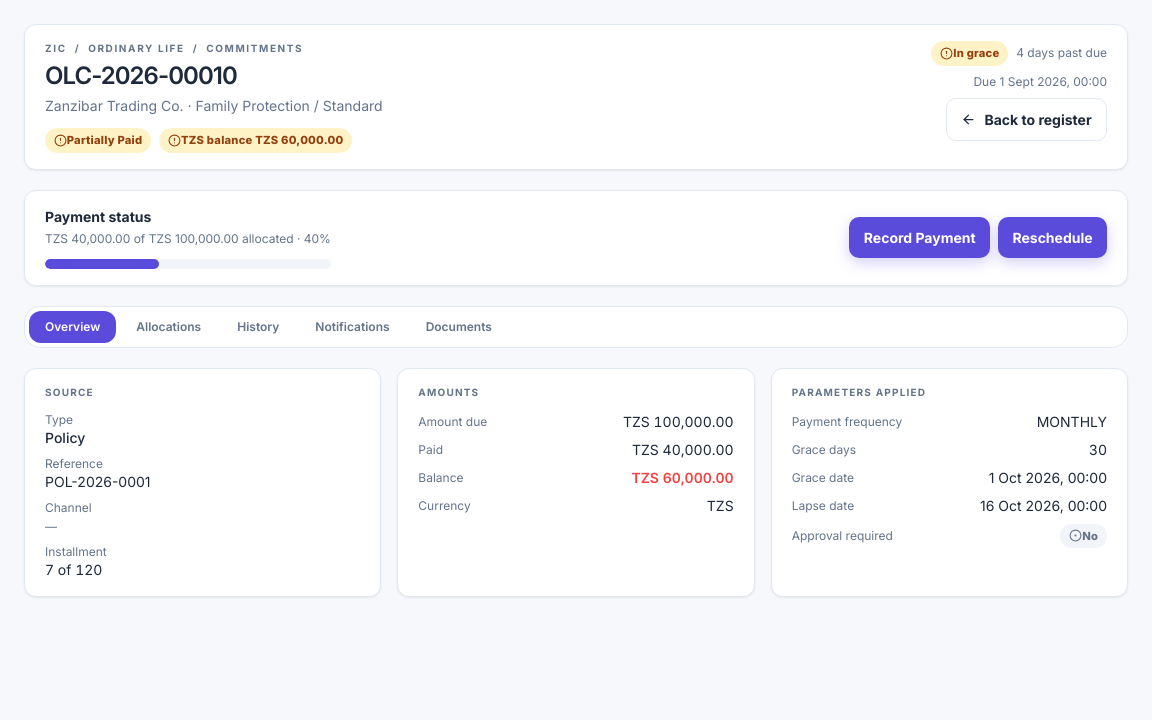
Test: CommitmentDetailPage › renders the allocations tab with receipts and reversal links
Expected: the heading "OLC-2026-00010" is shown, [45,61,237,90]
Click the button "Allocations".
click(169, 327)  # box [120,311,217,343]
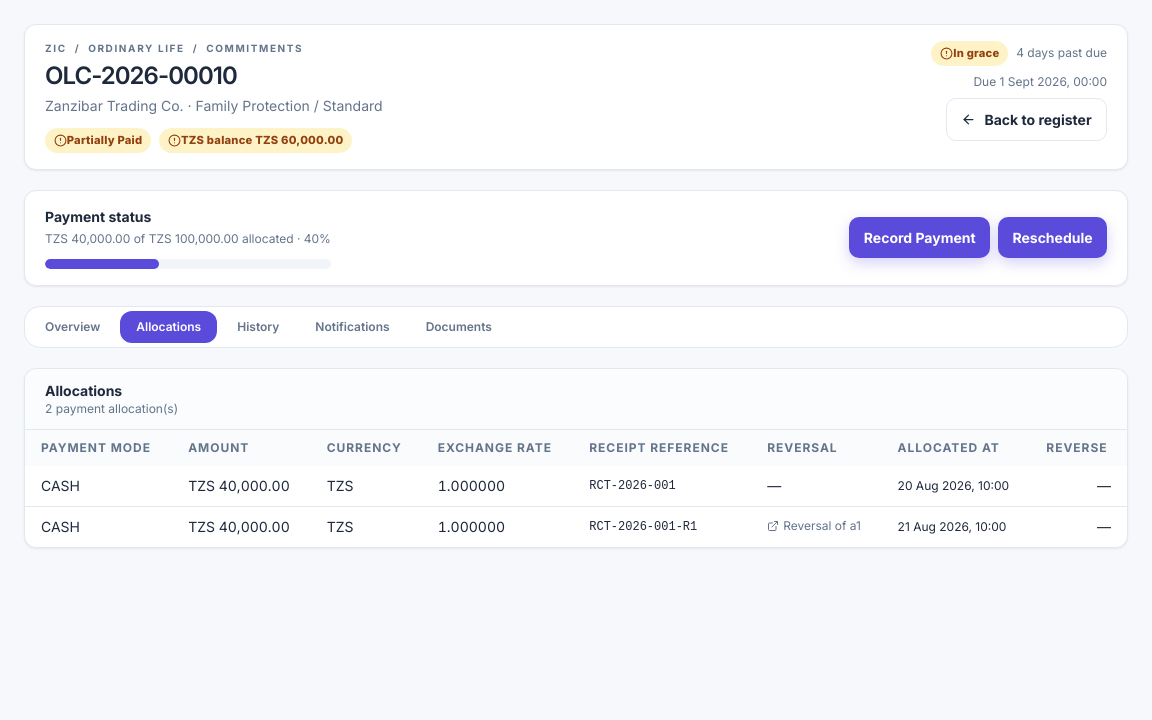
Expected: the text "RCT-2026-001" is shown, [573,466,751,506]
Expected: the text "CASH" in the row of "20 Aug 2026, 10:00" is shown, [41,477,80,494]
Expected: the text "1.000000" in the row of "20 Aug 2026, 10:00" is shown, [438,477,505,494]
